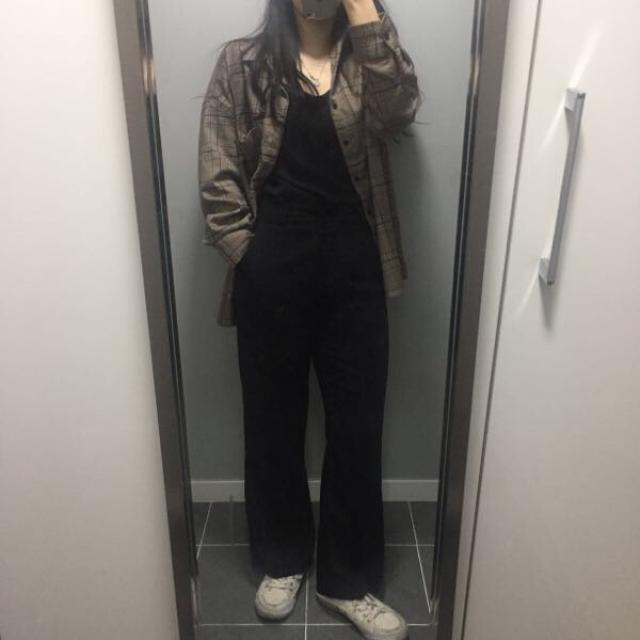blazer: (198, 6, 420, 315)
slacks: (231, 210, 387, 602)
